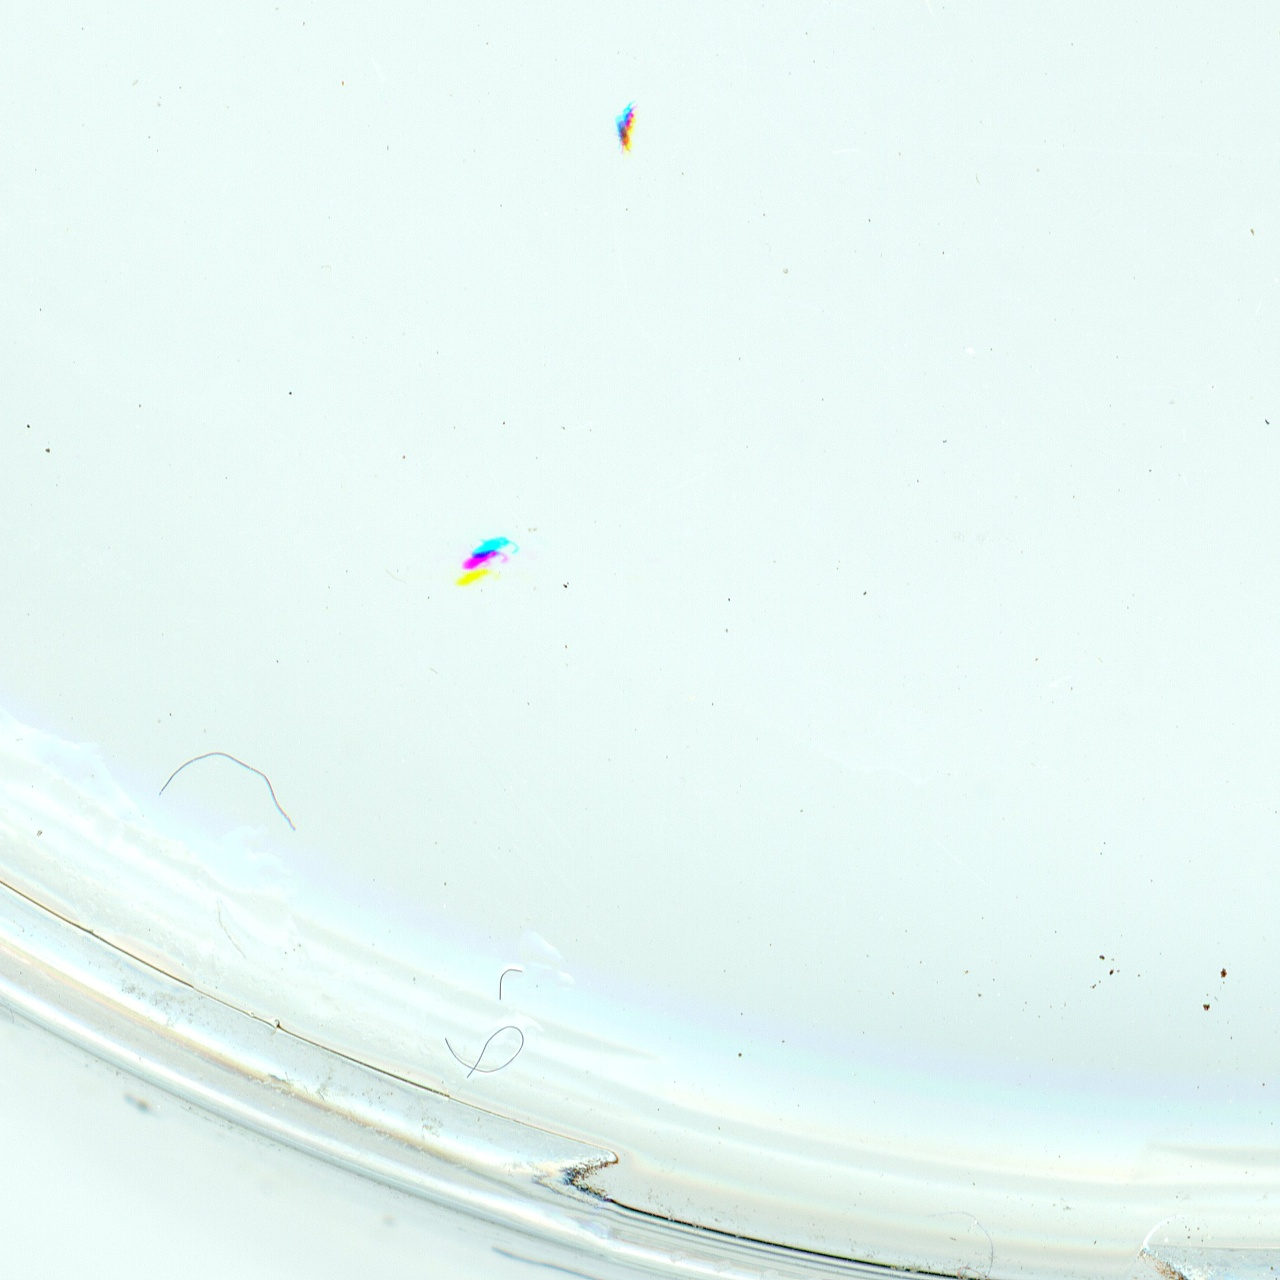arthropod: (449, 531, 526, 595), (610, 96, 644, 157)
